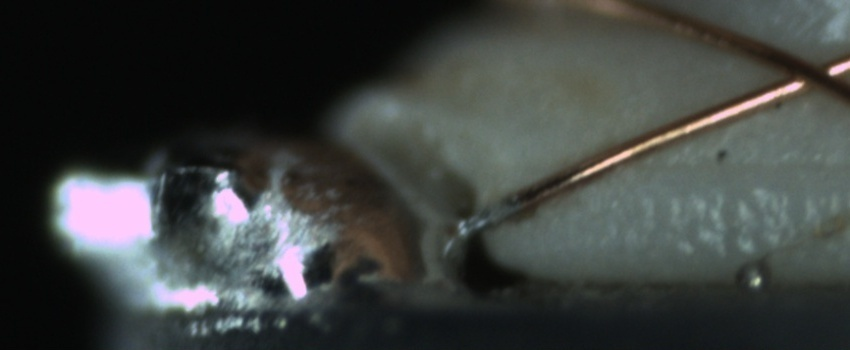CL: (759, 41, 847, 102)
DL: (638, 128, 845, 208)
TS: (455, 194, 519, 239)
